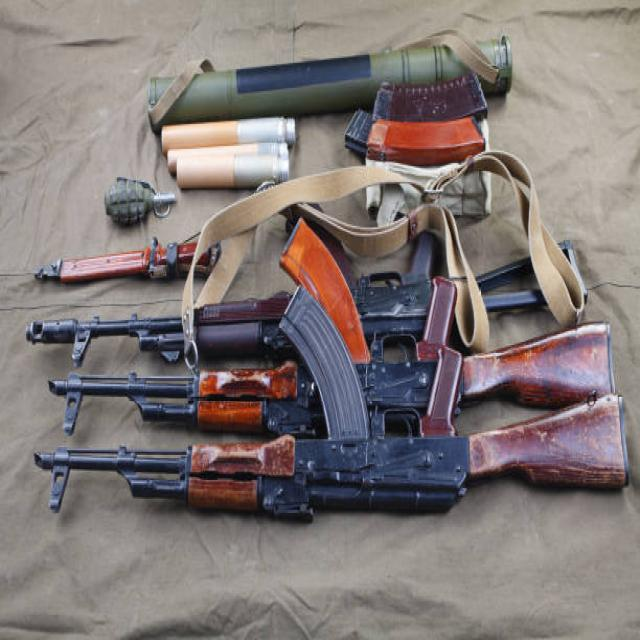grenade: (105, 173, 182, 228)
